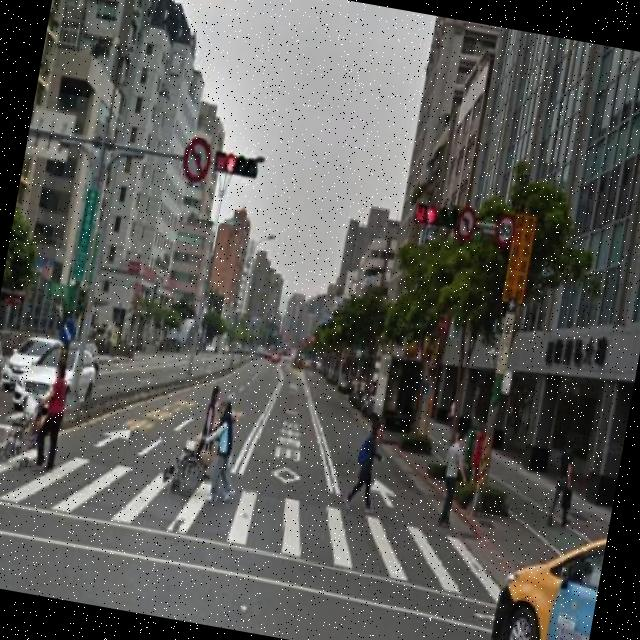Ograniczenie predkosci do 50: (490, 207, 520, 252)
